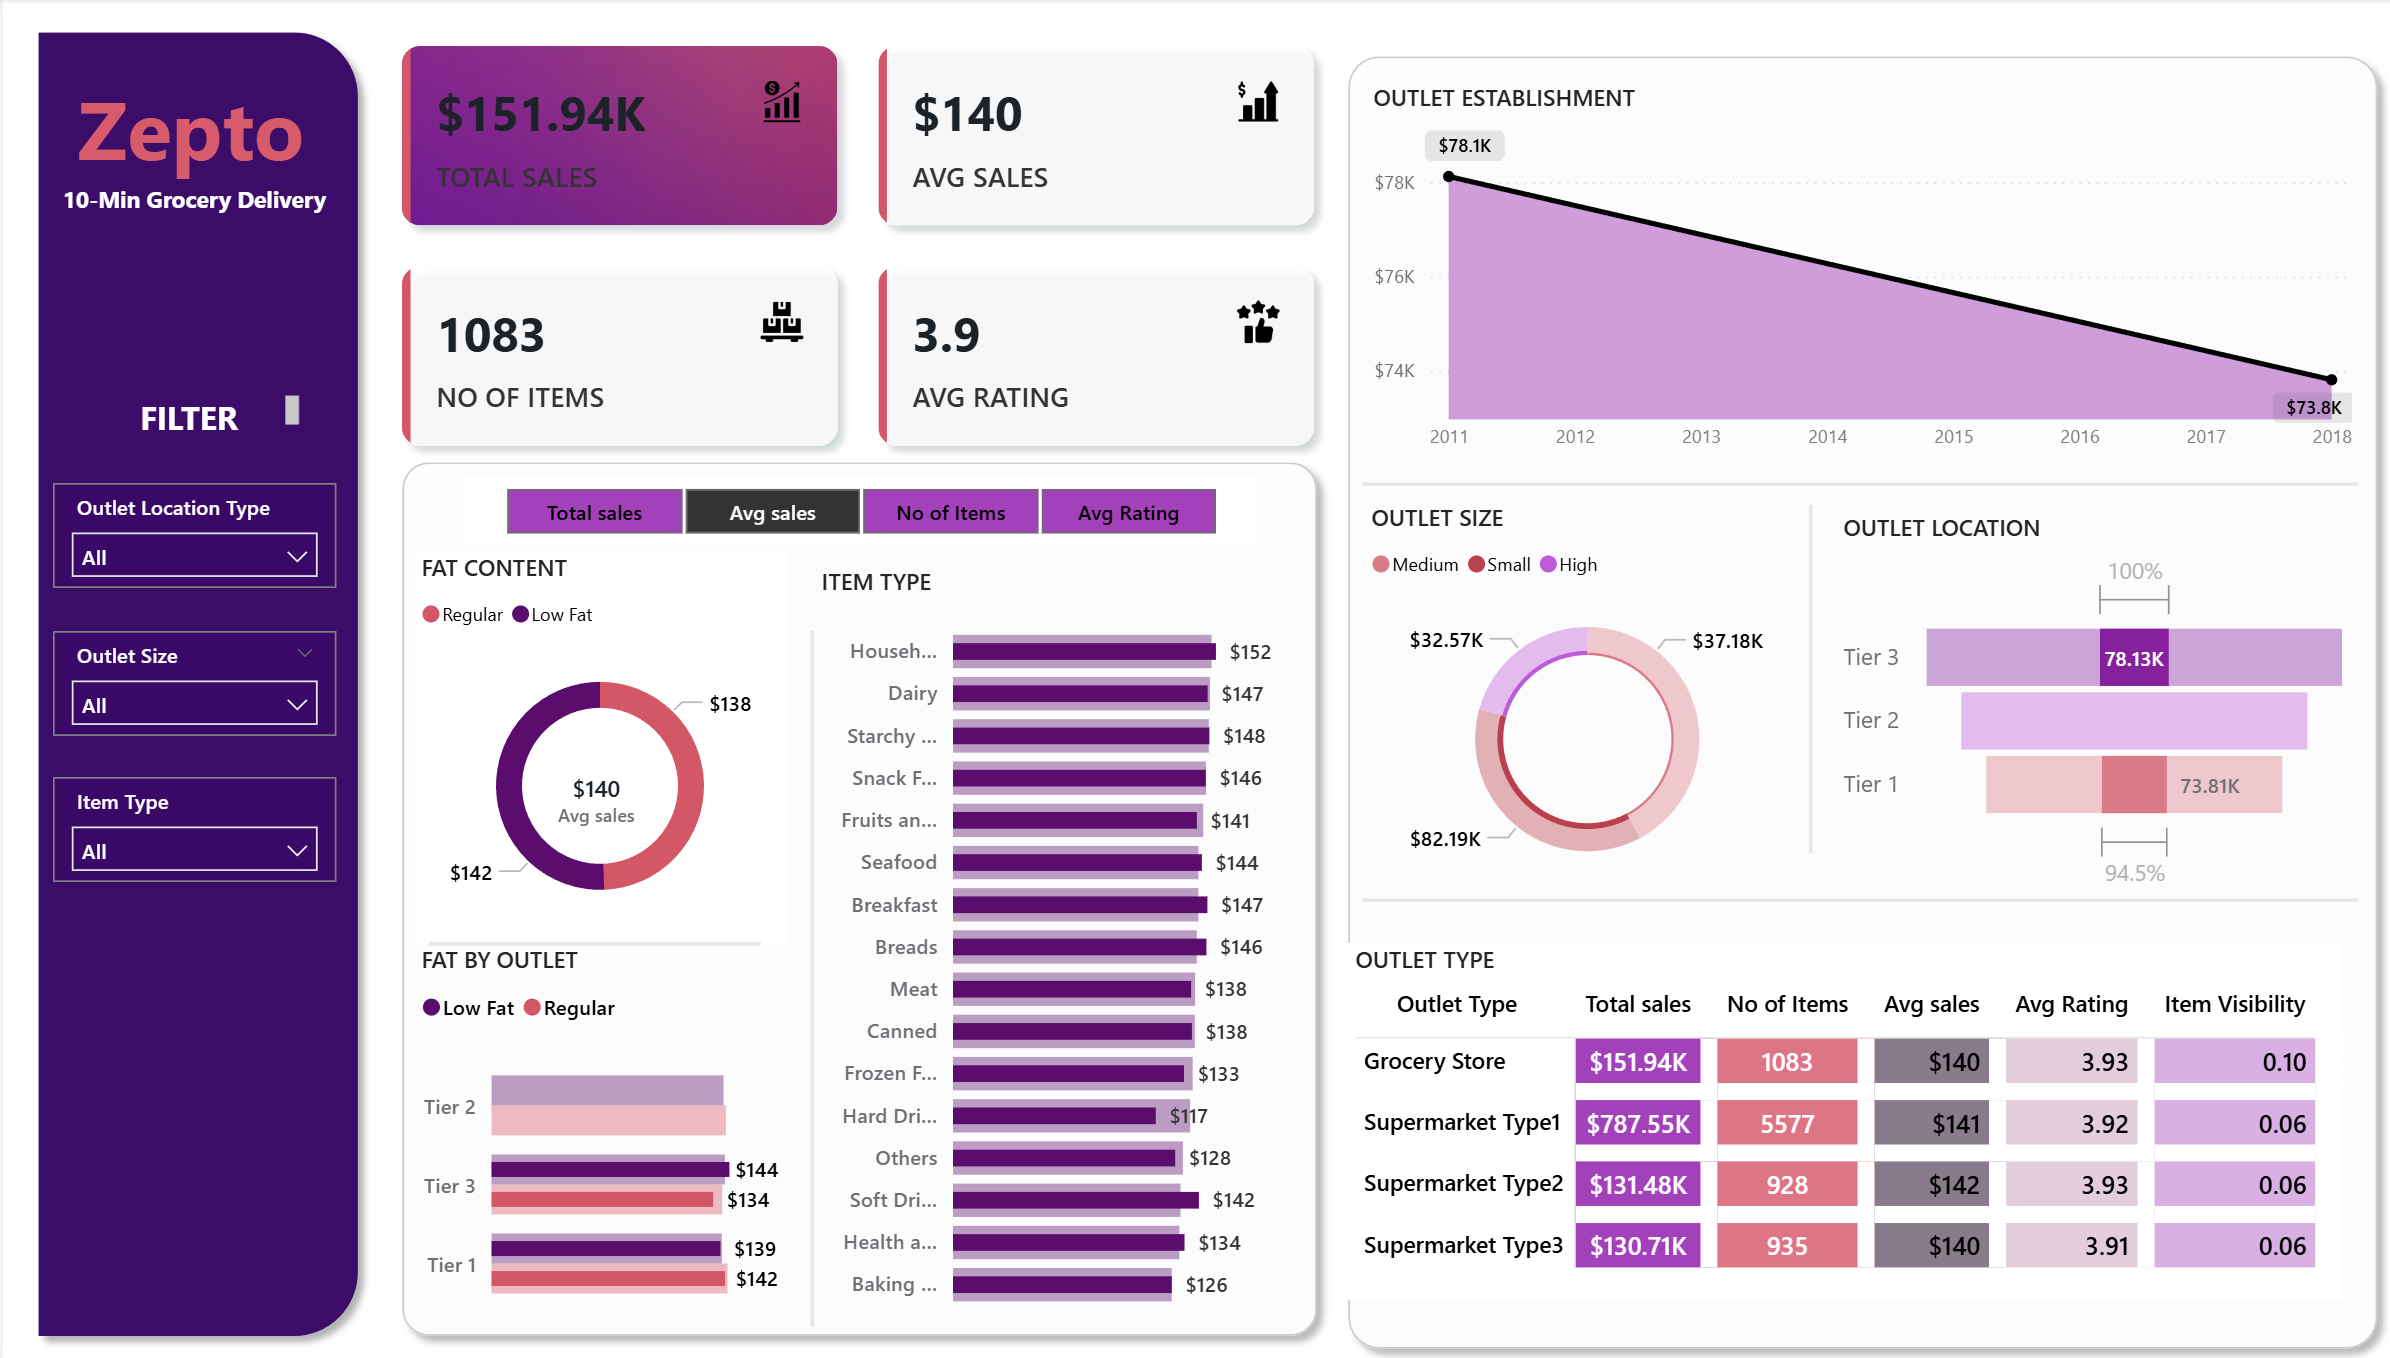

This screenshot's page, from the dashboard's own definition file:
{"tool":"powerbi","page":{"name":"Page 1","canvas":[1400,800],"ordinal":0},"visuals":[{"type":"shape","box":[12.1,12.1,205.1,781.5],"z":0},{"type":"textbox","box":[38.9,38.9,154.2,77.7],"z":1000},{"type":"textbox","box":[22.8,104.6,179.6,42.9],"z":2000},{"type":"cardVisual","fields":{"Data":["blinkit Grocery Data.Total sales","blinkit Grocery Data.Avg sales","blinkit Grocery Data.No of Items","blinkit Grocery Data.Avg Rating"]},"box":[217.2,12.1,569.7,269.4],"z":3000},{"type":"shape","box":[225.2,264.1,553.6,529.5],"z":4000},{"type":"donutChart","title":"FAT CONTENT","fields":{"Y":["blinkit Grocery Data.Total sales"],"Category":["blinkit Grocery Data.Item Fat Content"]},"box":[238.6,332.4,219.8,230.6],"z":5000},{"type":"slicer","fields":{"Values":["Metrics.Metrics"]},"box":[269.4,281.5,465.1,40.2],"z":6000},{"type":"cardVisual","fields":{"Data":["blinkit Grocery Data.Total sales"]},"box":[301.6,437,93.8,57.6],"z":7000},{"type":"clusteredBarChart","title":"FAT BY OUTLET","fields":{"Y":["blinkit Grocery Data.Total sales"],"Category":["blinkit Grocery Data.Outlet Location Type"],"Series":["blinkit Grocery Data.Item Fat Content"]},"box":[238.6,548.3,219.8,230.6],"z":8000},{"type":"shape","box":[249.3,545.6,194.4,17.4],"z":9000},{"type":"shape","box":[458.4,371.3,32.2,407.5],"z":10000},{"type":"barChart","title":"ITEM TYPE","fields":{"Y":["blinkit Grocery Data.Total sales"],"Category":["blinkit Grocery Data.Item Type"]},"box":[474.5,332.4,276.1,446.4],"z":11000},{"type":"shape","box":[778.8,25.5,620.6,774.8],"z":12000},{"type":"lineChart","title":"OUTLET ESTABLISHMENT","fields":{"Y":["blinkit Grocery Data.Total sales"],"Category":["blinkit Grocery Data.Outlet Establishment Year"]},"box":[797.6,49.6,583.1,225.2],"z":13000},{"type":"shape","box":[796.3,274.8,583.1,20.1],"z":14000},{"type":"donutChart","title":"OUTLET SIZE","fields":{"Y":["blinkit Grocery Data.Total sales"],"Category":["blinkit Grocery Data.Outlet Size"]},"box":[796.3,294.9,262.7,234.6],"z":15000},{"type":"shape","box":[1050.9,297.6,16.1,203.8],"z":16000},{"type":"funnel","title":"OUTLET LOCATION","fields":{"Y":["Sum(blinkit Grocery Data.Sales)"],"Category":["blinkit Grocery Data.Outlet Location Type"]},"box":[1072.4,301.6,307,227.9],"z":17000},{"type":"shape","box":[796.3,518.8,583.1,20.1],"z":18000},{"type":"pivotTable","title":"OUTLET TYPE","fields":{"Rows":["blinkit Grocery Data.Outlet Type"],"Values":["blinkit Grocery Data.Total sales","blinkit Grocery Data.No of Items","blinkit Grocery Data.Avg sales","blinkit Grocery Data.Avg Rating","Avg(blinkit Grocery Data.Item Visibility)"]},"box":[786.9,553.6,583.1,209.1],"z":19000},{"type":"slicer","fields":{"Values":["blinkit Grocery Data.Outlet Location Type"]},"box":[29.5,284.2,166.2,61.7],"z":20000},{"type":"slicer","fields":{"Values":["blinkit Grocery Data.Outlet Size"]},"box":[29.5,371.3,166.2,61.7],"z":21000},{"type":"slicer","fields":{"Values":["blinkit Grocery Data.Item Type"]},"box":[29.5,457.1,166.2,61.7],"z":22000},{"type":"textbox","box":[46.9,227.9,131.4,36.2],"z":23000}]}

Visuals, with their boxes in screenshot pixels (x1, y1, x2, y2), scaled from the page's 1400x800 canvas onto the 2390x1358 screenshot:
shape: 21, 21, 371, 1347
textbox: 66, 66, 330, 198
textbox: 39, 178, 346, 250
cardVisual - blinkit Grocery Data.Total sales x blinkit Grocery Data.Avg sales: 371, 21, 1343, 478
shape: 384, 448, 1330, 1347
"FAT CONTENT" donutChart: 407, 564, 783, 956
slicer - Metrics.Metrics: 460, 478, 1254, 546
cardVisual - blinkit Grocery Data.Total sales: 515, 742, 675, 840
"FAT BY OUTLET" clusteredBarChart: 407, 931, 783, 1322
shape: 426, 926, 757, 956
shape: 783, 630, 838, 1322
"ITEM TYPE" barChart: 810, 564, 1281, 1322
shape: 1330, 43, 2389, 1357
"OUTLET ESTABLISHMENT" lineChart: 1362, 84, 2357, 466
shape: 1359, 466, 2355, 501
"OUTLET SIZE" donutChart: 1359, 501, 1808, 899
shape: 1794, 505, 1822, 851
"OUTLET LOCATION" funnel: 1831, 512, 2355, 899
shape: 1359, 881, 2355, 915
"OUTLET TYPE" pivotTable: 1343, 940, 2339, 1295
slicer - blinkit Grocery Data.Outlet Location Type: 50, 482, 334, 587
slicer - blinkit Grocery Data.Outlet Size: 50, 630, 334, 735
slicer - blinkit Grocery Data.Item Type: 50, 776, 334, 881
textbox: 80, 387, 304, 448
